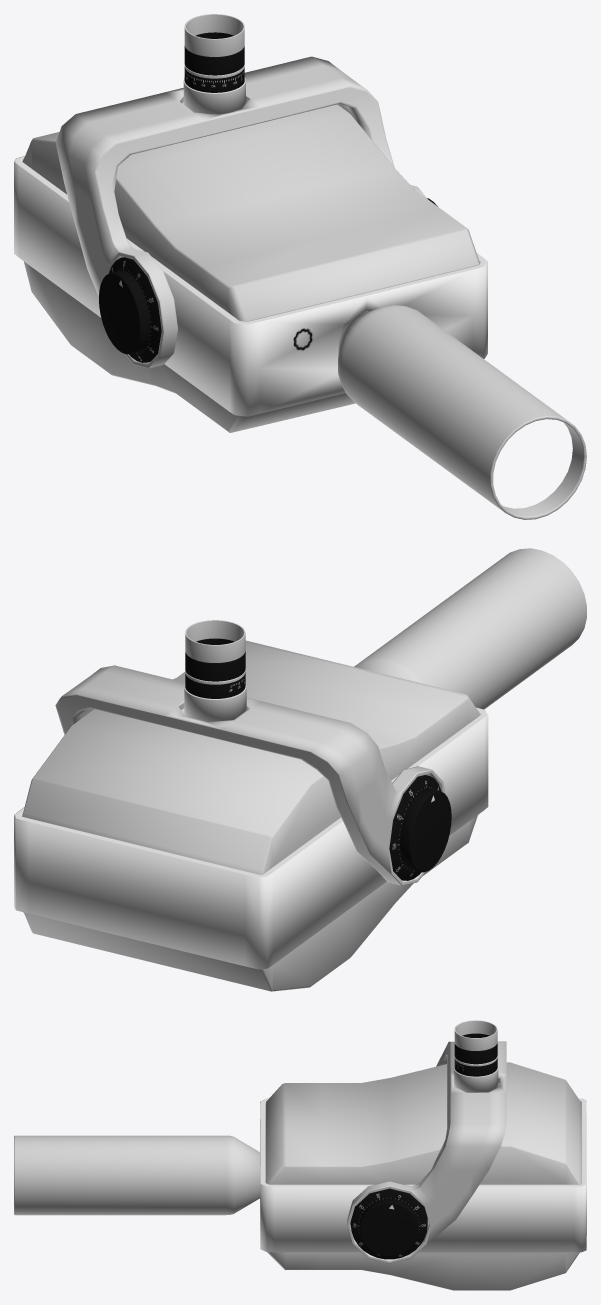
The model's file is x_ray.gltf.
The picture shows the model from 3 angles, top to bottom: view 1: azimuth 30°, elevation 25°; view 2: azimuth 150°, elevation 25°; view 3: azimuth 270°, elevation 25°; orthographic projection. The views are drawn at different scales.
Visible parts, largest first — view 1: hainuo_dental_xray_unit_fixer7, hainuo_dental_xray_unit_fixer10, hainuo_dental_xray_unit_fixer11, hainuo_dental_xray_unit_fixer9, hainuo_dental_xray_unit_regulator2, hainuo_dental_xray_unit_fixer13, hainuo_dental_xray_unit_fixer14, hainuo_dental_xray_unit_fixer13.1; view 2: hainuo_dental_xray_unit_fixer7, hainuo_dental_xray_unit_fixer10, hainuo_dental_xray_unit_fixer11, hainuo_dental_xray_unit_fixer9, hainuo_dental_xray_unit_regulator2, hainuo_dental_xray_unit_fixer13, hainuo_dental_xray_unit_fixer14, hainuo_dental_xray_unit_fixer13.1; view 3: hainuo_dental_xray_unit_fixer7, hainuo_dental_xray_unit_fixer11, hainuo_dental_xray_unit_fixer10, hainuo_dental_xray_unit_fixer9, hainuo_dental_xray_unit_regulator, hainuo_dental_xray_unit_fixer13, hainuo_dental_xray_unit_fixer14, hainuo_dental_xray_unit_fixer13.1.
Part boxes in pixels (x1,y1,x2,y2): hainuo_dental_xray_unit_fixer7: (22, 104, 479, 432); hainuo_dental_xray_unit_fixer10: (14, 156, 487, 416); hainuo_dental_xray_unit_fixer11: (338, 305, 586, 519); hainuo_dental_xray_unit_fixer9: (55, 56, 427, 368); hainuo_dental_xray_unit_regulator2: (99, 257, 161, 362); hainuo_dental_xray_unit_fixer13: (184, 32, 244, 92); hainuo_dental_xray_unit_fixer14: (184, 14, 244, 56); hainuo_dental_xray_unit_fixer13.1: (183, 64, 245, 114); hainuo_dental_xray_unit_fixer7: (22, 640, 479, 991); hainuo_dental_xray_unit_fixer10: (14, 707, 488, 969); hainuo_dental_xray_unit_fixer11: (354, 548, 586, 709); hainuo_dental_xray_unit_fixer9: (55, 665, 445, 885); hainuo_dental_xray_unit_regulator2: (389, 775, 451, 880); hainuo_dental_xray_unit_fixer13: (185, 638, 245, 698); hainuo_dental_xray_unit_fixer14: (185, 620, 245, 662); hainuo_dental_xray_unit_fixer13.1: (184, 669, 246, 721); hainuo_dental_xray_unit_fixer7: (265, 1062, 581, 1290); hainuo_dental_xray_unit_fixer11: (14, 1135, 260, 1215); hainuo_dental_xray_unit_fixer10: (260, 1098, 586, 1252); hainuo_dental_xray_unit_fixer9: (347, 1041, 506, 1263); hainuo_dental_xray_unit_regulator: (350, 1188, 427, 1259); hainuo_dental_xray_unit_fixer13: (454, 1033, 497, 1076); hainuo_dental_xray_unit_fixer14: (454, 1020, 497, 1050); hainuo_dental_xray_unit_fixer13.1: (453, 1056, 498, 1092).
Bounding box in the file's own units: 16.83 × 15.86 × 37.5.
Materials: 3 (2 with a texture image).
